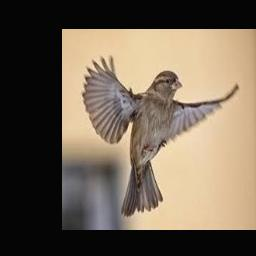Sparrow: (82, 55, 238, 216)
